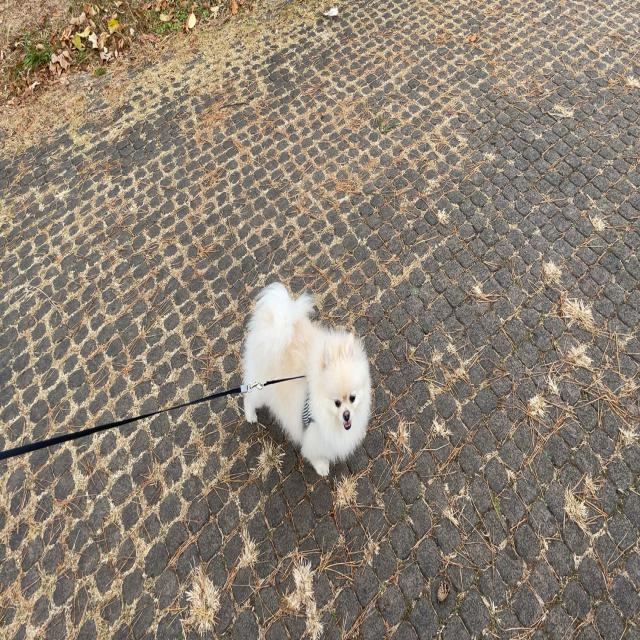Dog: (240, 282, 374, 479)
